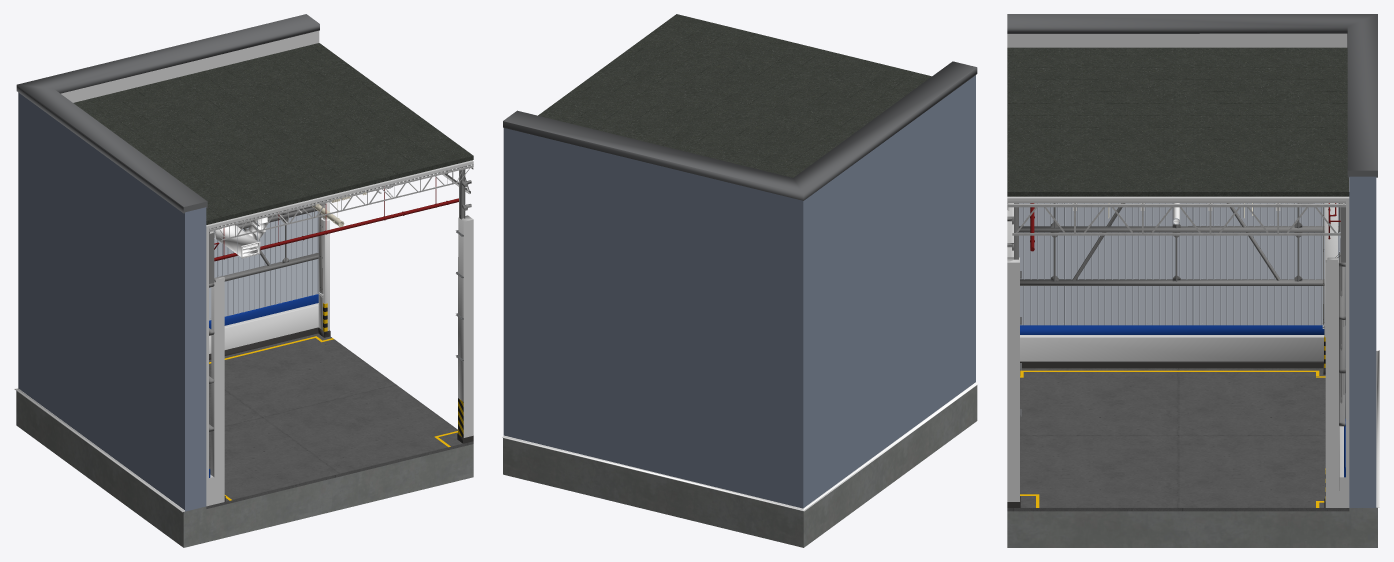
Rendered from hall_corner.glb.
3 views of the same model, side by side, from view 1: azimuth 30°, elevation 25°; view 2: azimuth 150°, elevation 25°; view 3: azimuth 270°, elevation 25° (orthographic). The views are drawn at different scales.
Visible parts, largest first — view 1: sm_base_a01_mesh_00; view 2: sm_base_a01_mesh_00; view 3: sm_base_a01_mesh_00.
Part boxes in pixels (<box>): sm_base_a01_mesh_00: <box>14,14,473,547</box>; sm_base_a01_mesh_00: <box>502,14,978,547</box>; sm_base_a01_mesh_00: <box>1007,14,1379,547</box>.
Bounding box in the file's own units: 11 × 12.3 × 11.
29 materials, 9 textured.
